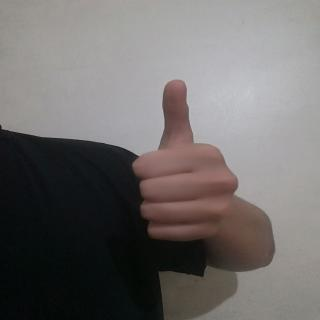ALIF: (129, 79, 240, 258)
